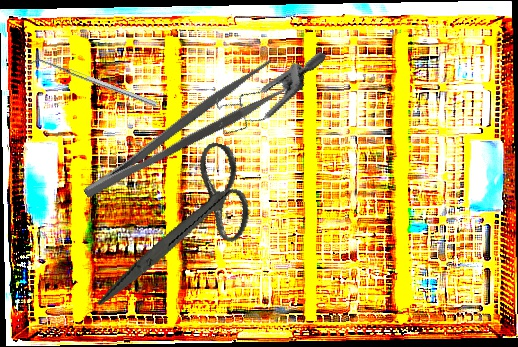Dressing Forceps: (71, 58, 289, 204)
Iris Scissors: (95, 124, 266, 335)
Spatula Surgical: (28, 54, 158, 112)
Speculum: (204, 20, 327, 159)
